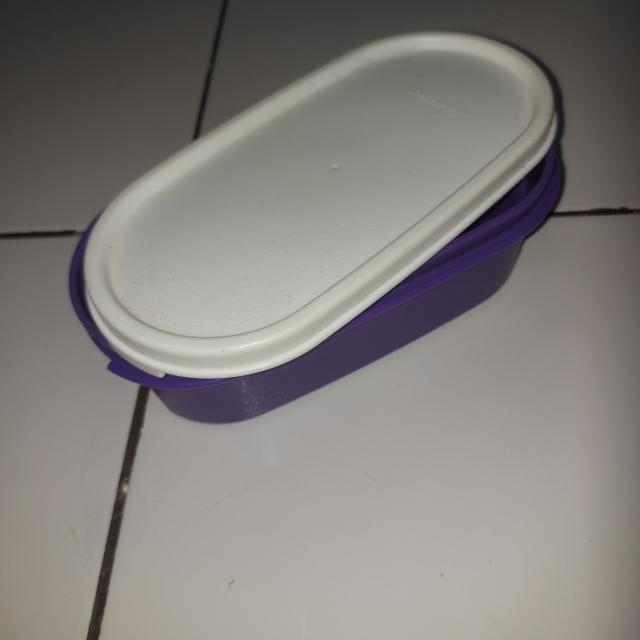Anorganik: (67, 30, 566, 426)
